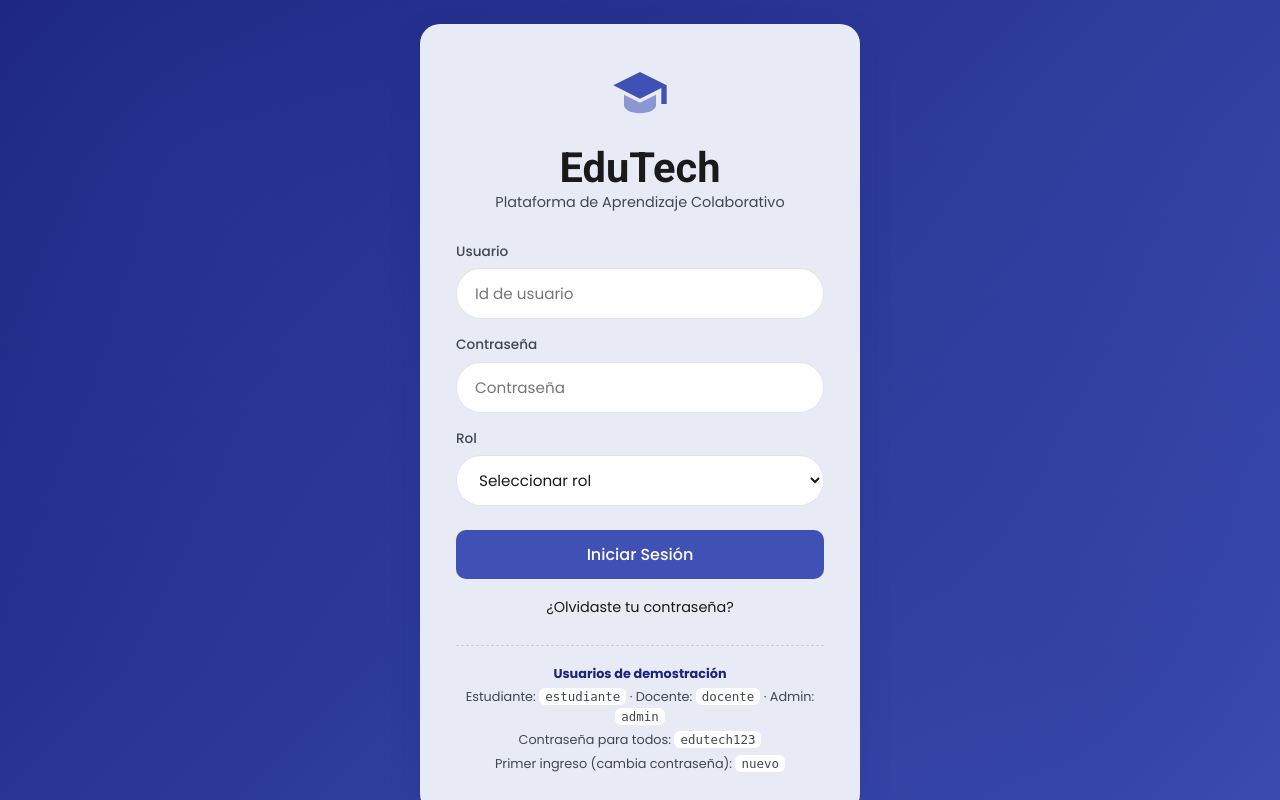
Login — integración › muestra error con credenciales incorrectas (Escenario 2)
Type "estudiante" into the field labelled "Usuario" at (640, 294), box [456, 268, 824, 319]
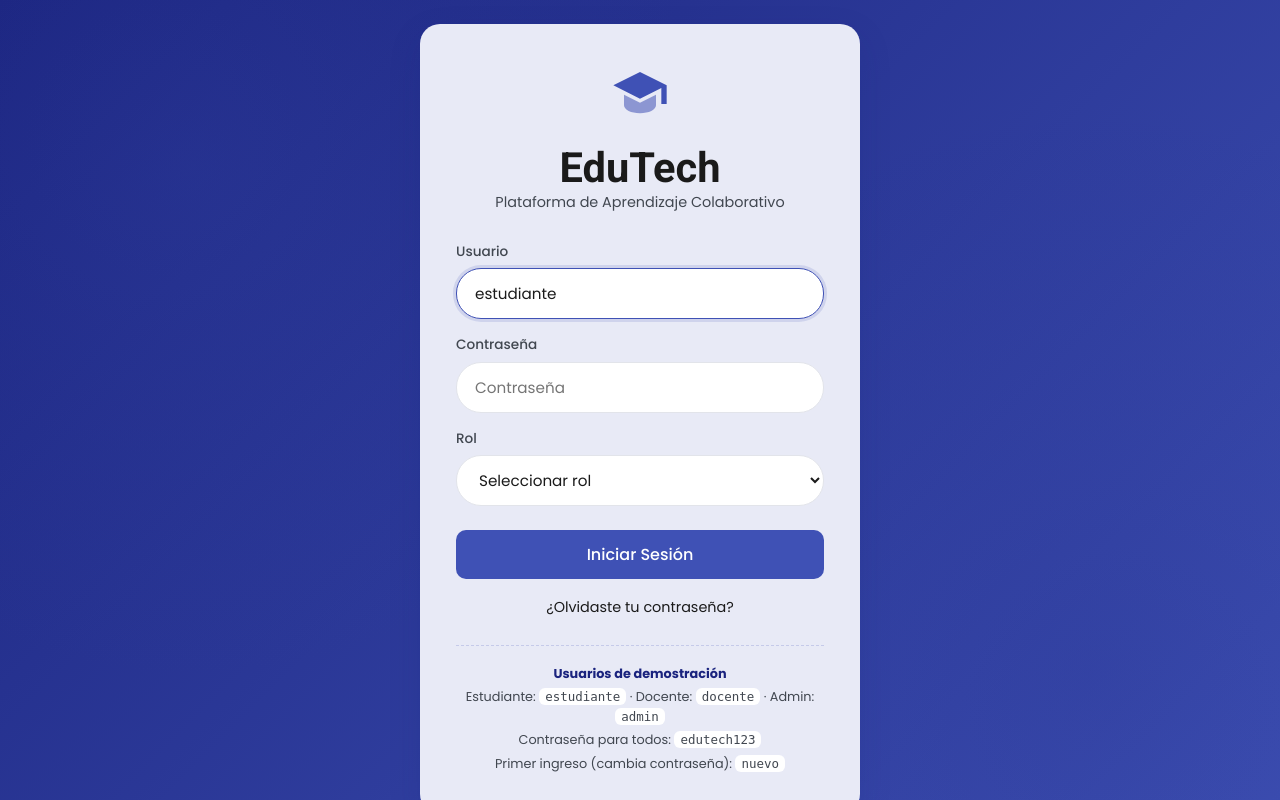
Type "incorrecta" into the password field labelled "Contraseña" at (640, 387), box [456, 362, 824, 413]
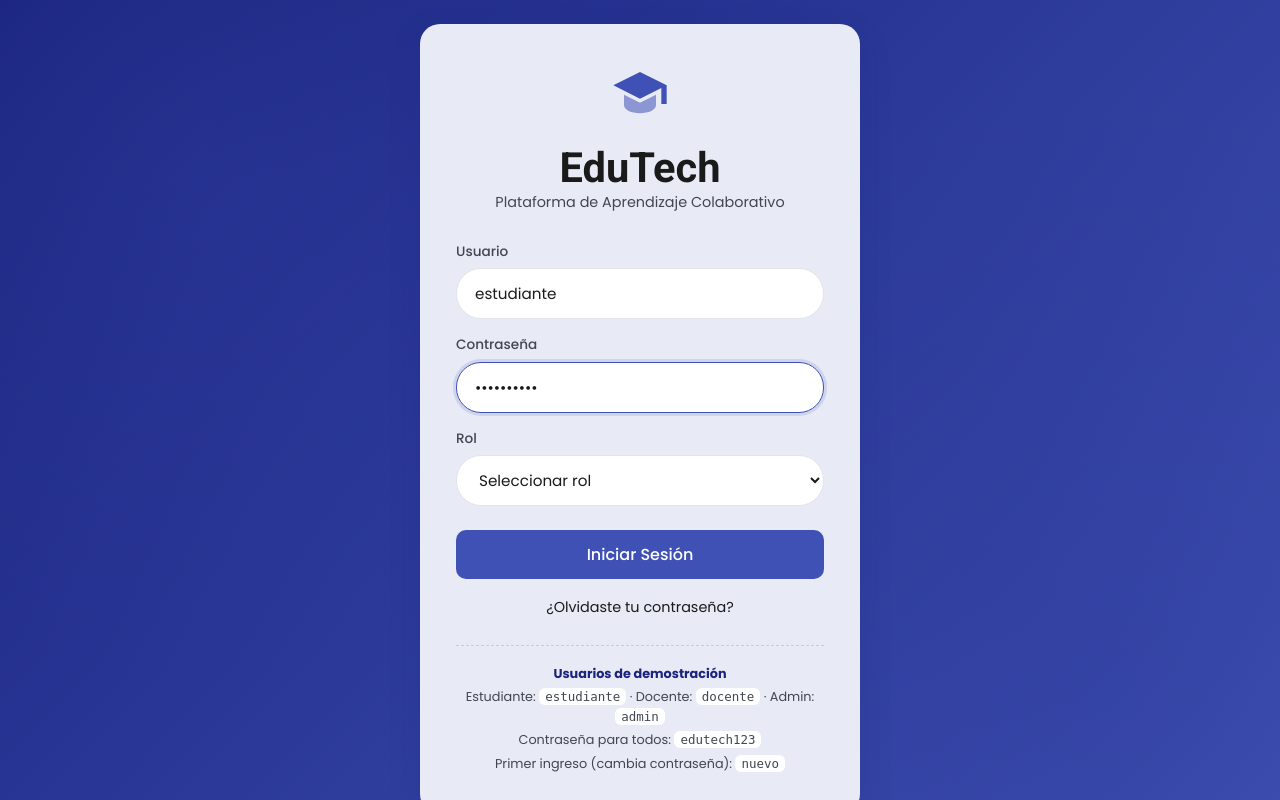
Select "Estudiante" in the dropdown labelled "Rol" at (640, 481), box [456, 455, 824, 506]
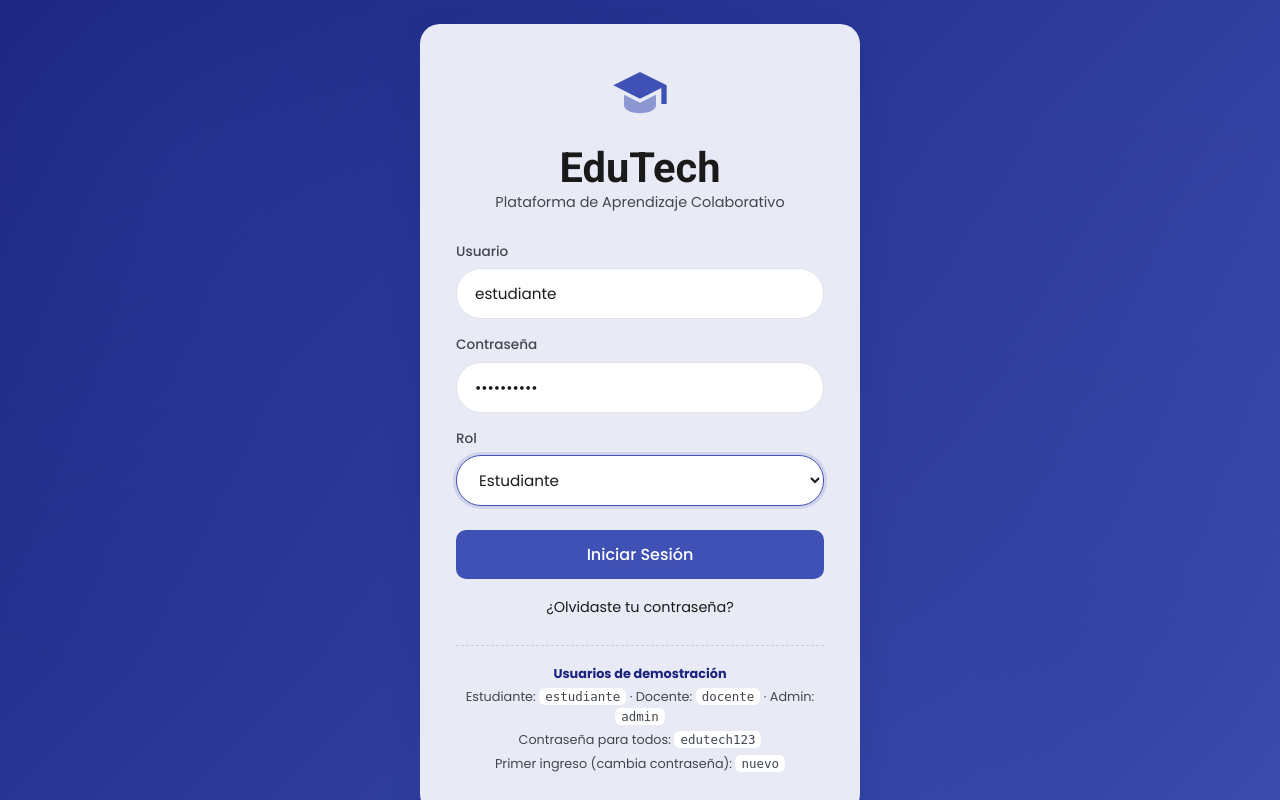
Click the button "Iniciar Sesión" at (640, 555), box [456, 530, 824, 579]
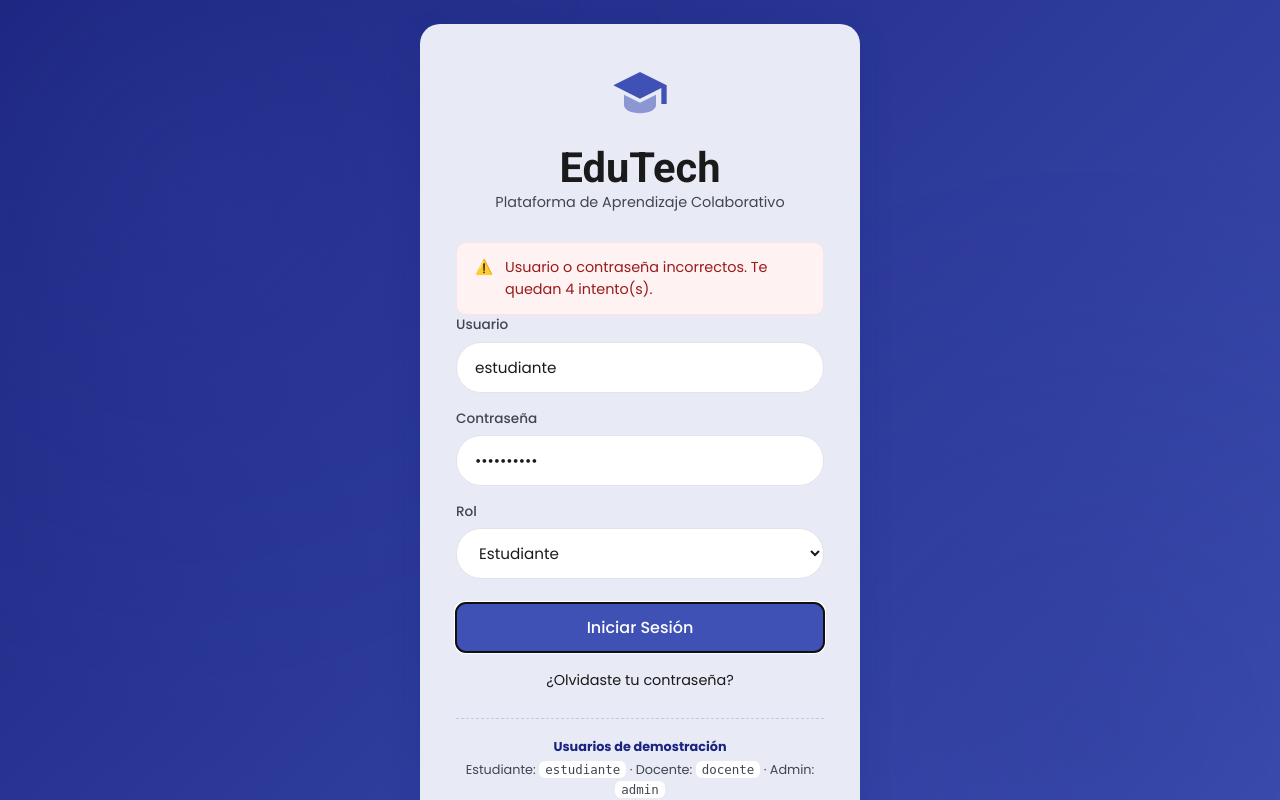
Result: the text "Usuario o contraseña incorrectos. Te quedan 4 intento(s)." is shown at [505, 257, 805, 300]
